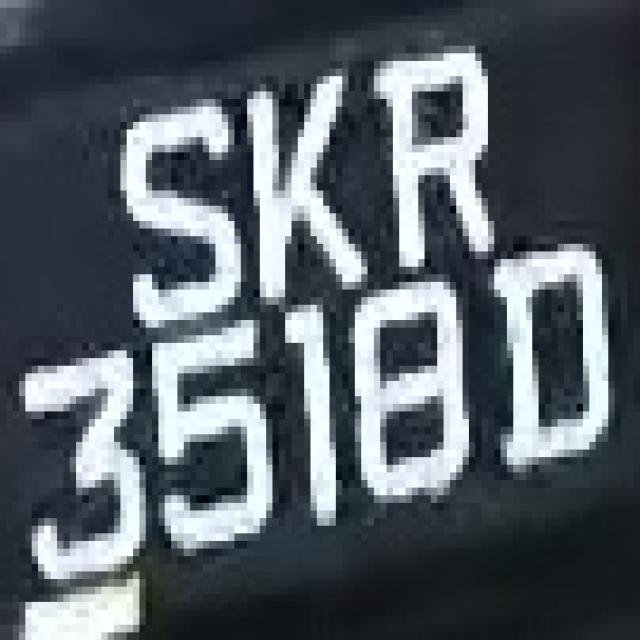1: (279, 266, 374, 572)
3: (12, 335, 146, 602)
5: (133, 282, 273, 579)
8: (348, 229, 488, 541)
D: (488, 214, 627, 496)
K: (234, 69, 374, 335)
R: (374, 23, 513, 251)
S: (95, 84, 241, 358)
